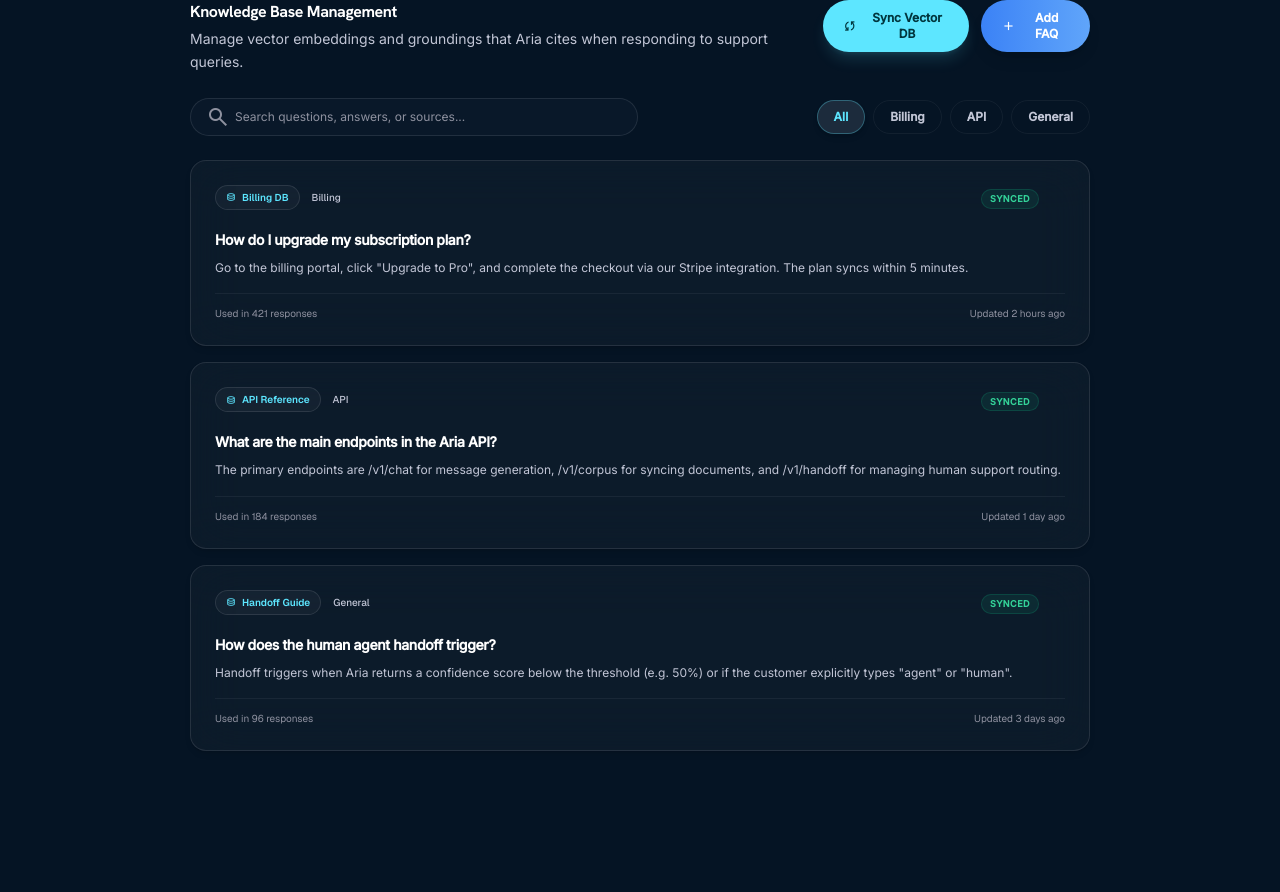
Test: KnowledgeBasePage Component › opens modal, fills out and adds a new FAQ successfully
// Click Add FAQ to open modal
Click the button "Add FAQ": (1036,26) [981,0,1090,52]
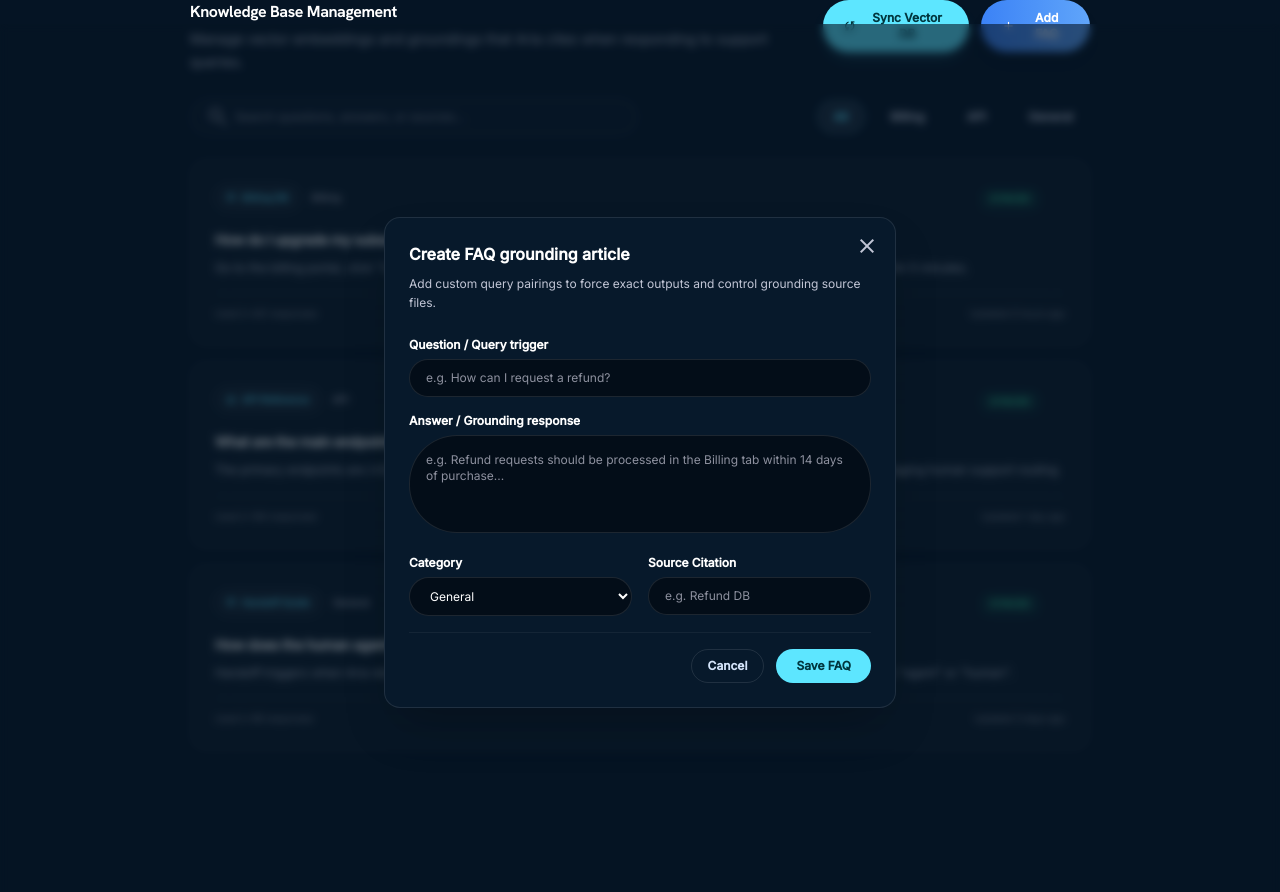
Expected: the heading "Create FAQ grounding article" is shown, [409,244,630,264]
// Fill out the form
In the field with placeholder "e.g. How can I request a refund?": (640,378) [409,358,871,396], type "How can I change my profile?"
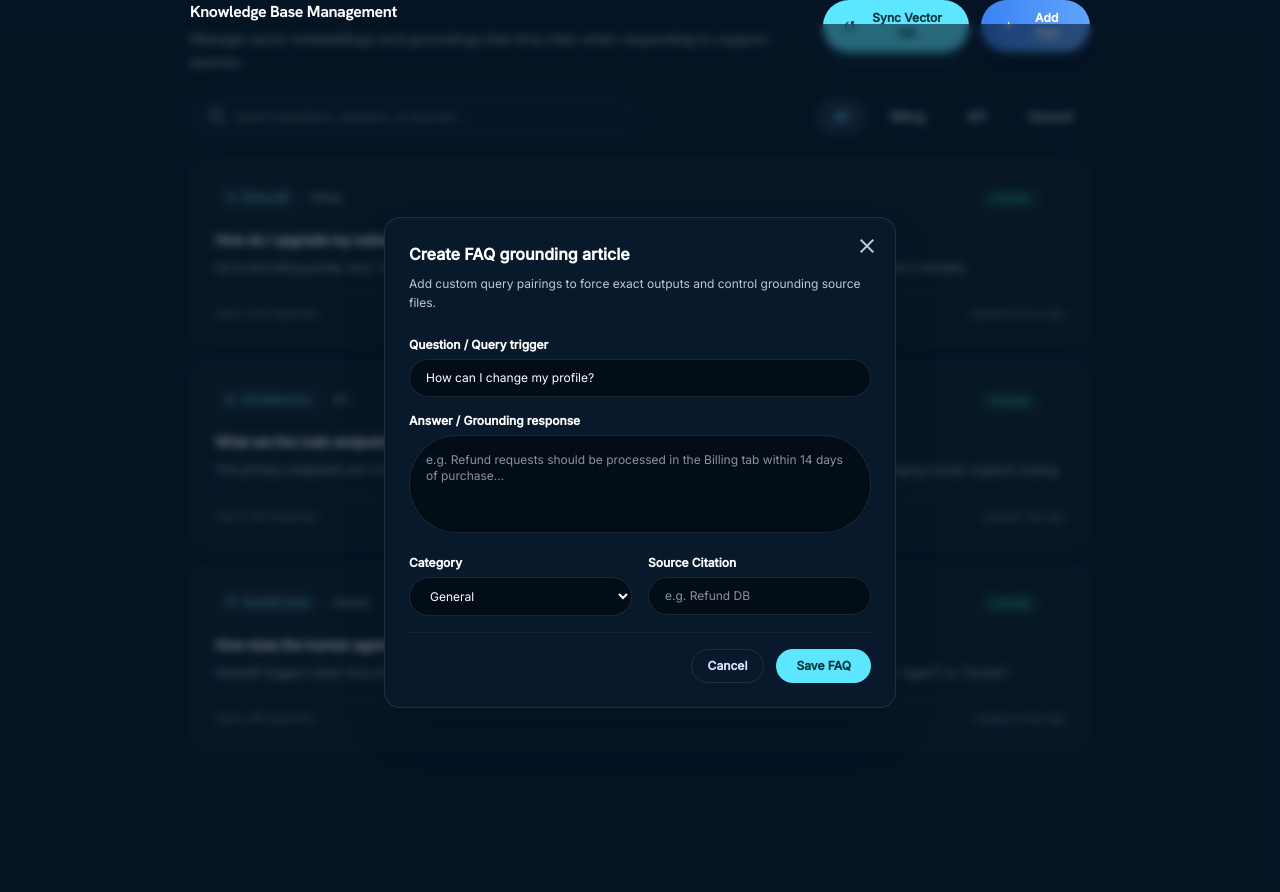
Replace the text in the text box with placeholder "Refund requests should be processed" with "Go to Settings and click Edit Profile to update details.": (640,484) [409,434,871,532]
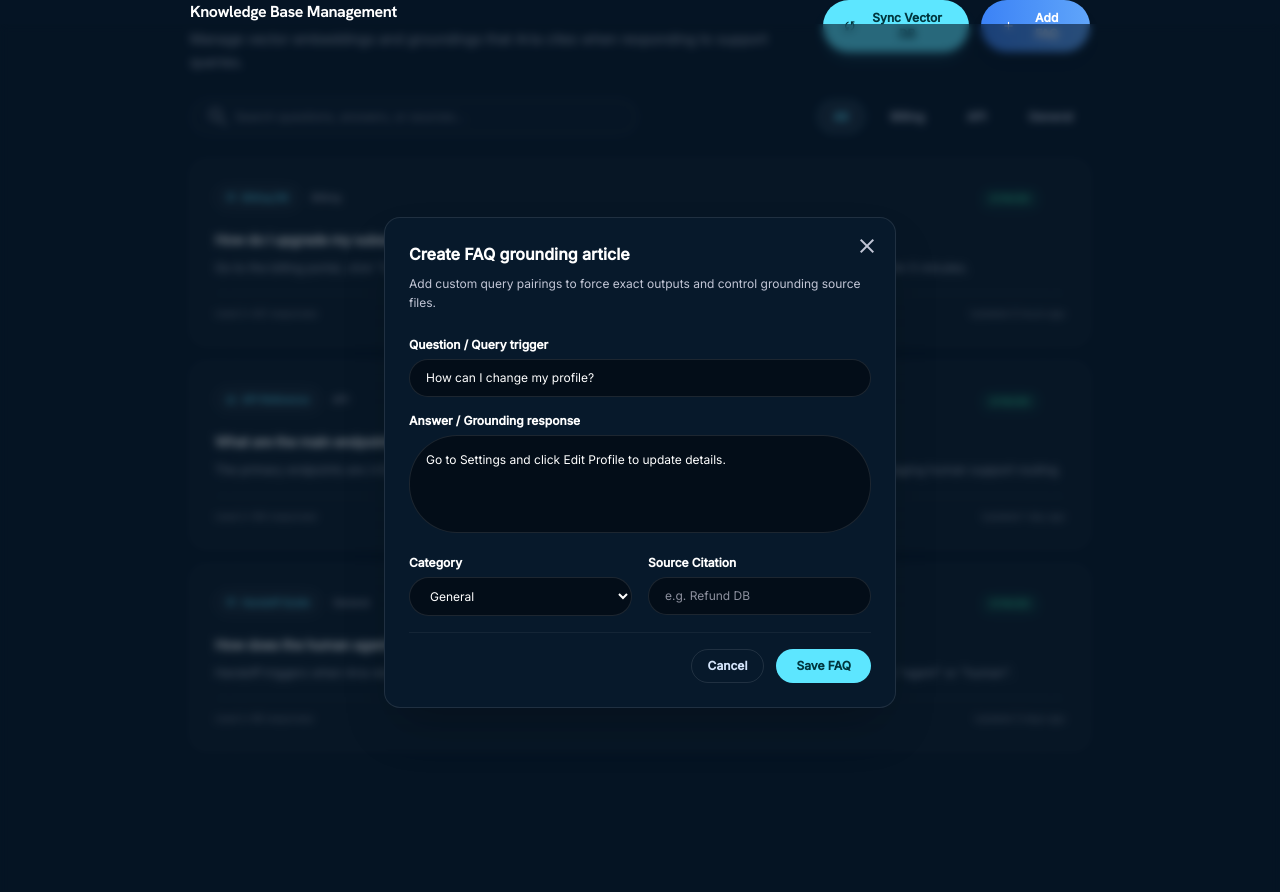
In the field with placeholder "e.g. Refund DB": (760,596) [648,576,871,614], type "Profile DB"
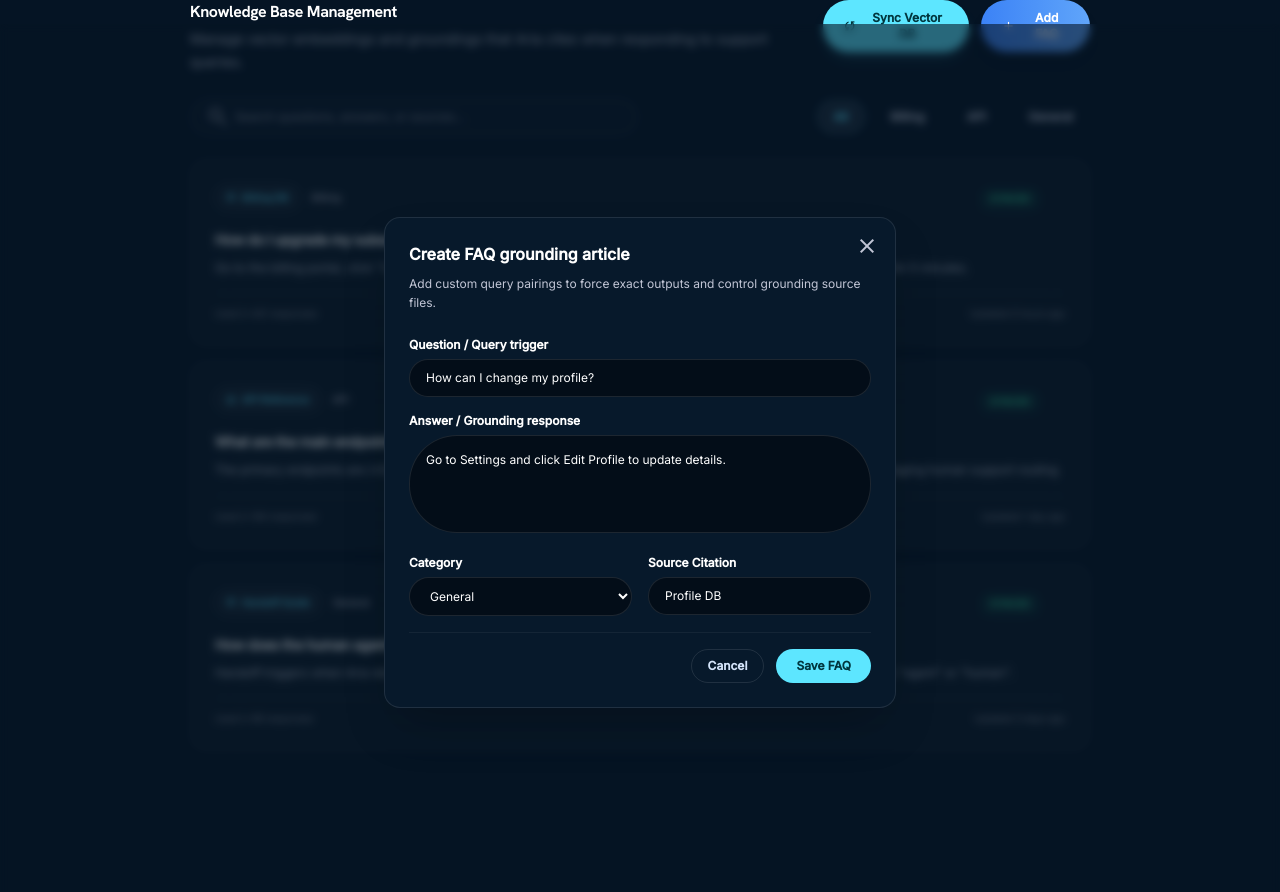
// Submit form
Click the button "Save FAQ": (824,666) [776,648,871,682]
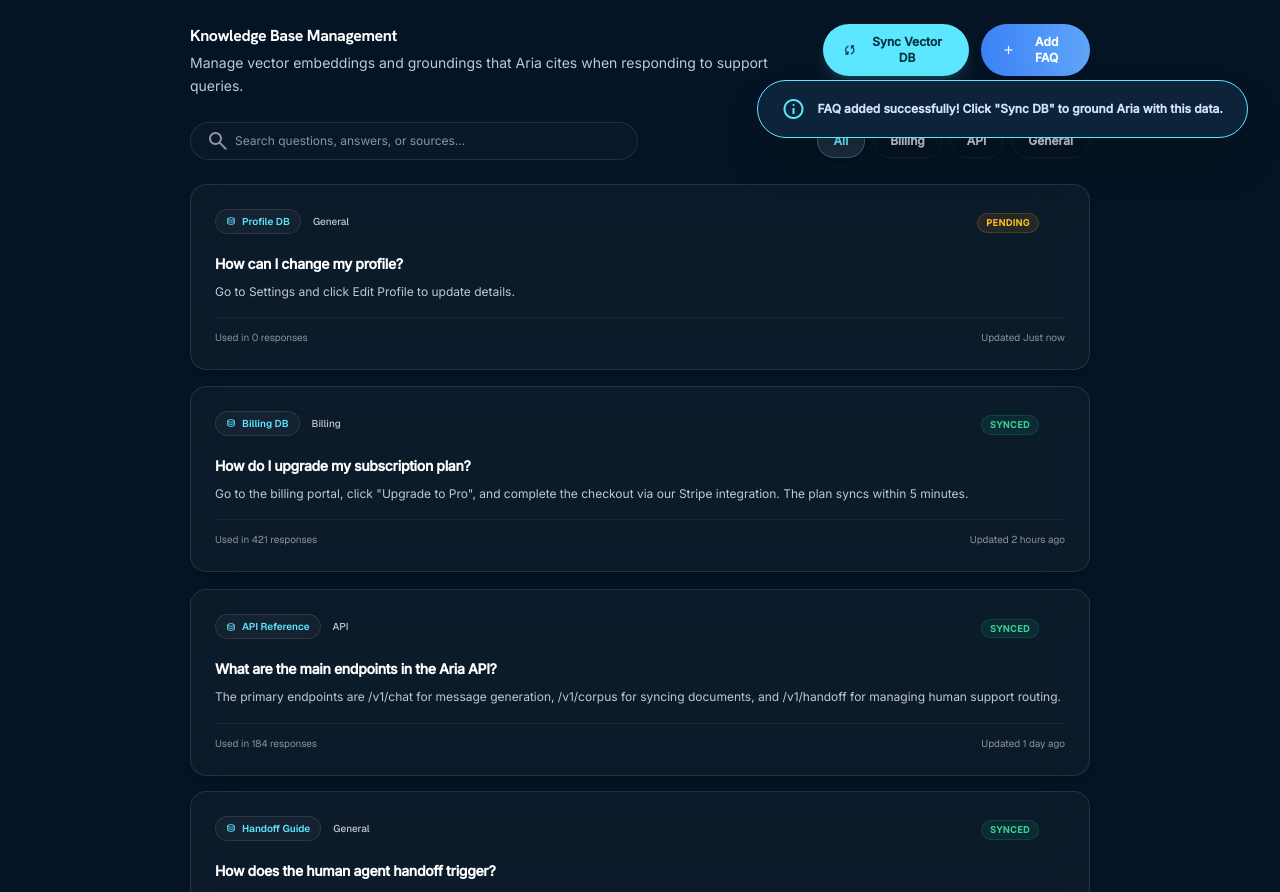
Expected: the heading "How can I change my profile?" is shown, [215,254,403,272]
Expected: the text "Profile DB" is shown, [242,214,290,228]
Expected: the text "Pending" is shown, [977,213,1039,233]
